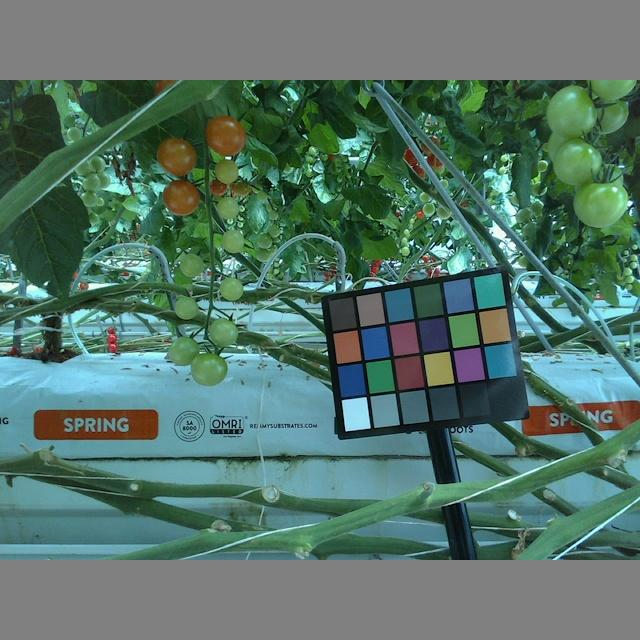green: (571, 179, 631, 229), (545, 85, 599, 137), (551, 139, 604, 183), (190, 353, 228, 386), (166, 337, 201, 368), (210, 318, 239, 349), (218, 276, 245, 302), (220, 225, 244, 254), (213, 158, 239, 183), (179, 251, 204, 277), (174, 295, 200, 320), (215, 196, 239, 220)
pink: (204, 113, 245, 155), (156, 137, 196, 178), (163, 177, 201, 216)
